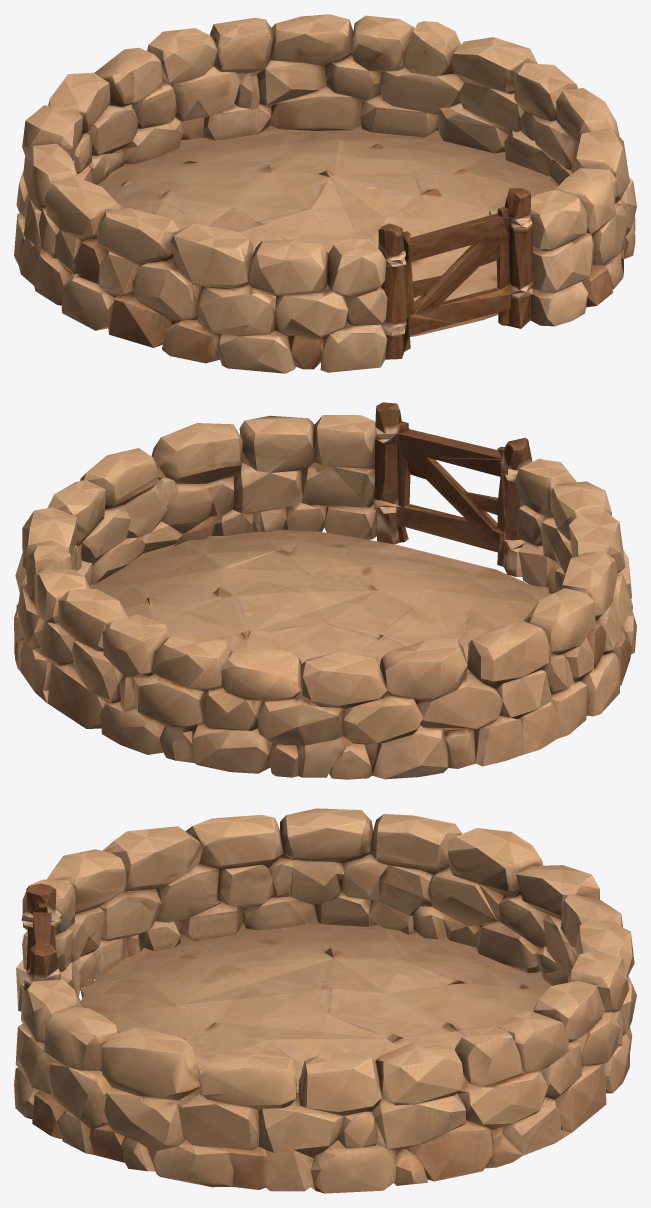
File: midian-sheepfold.glb
3 renders of one model, top to bottom at view 1: azimuth 30°, elevation 25°; view 2: azimuth 150°, elevation 25°; view 3: azimuth 270°, elevation 25°, orthographic. The views are drawn at different scales.
Size of the model in its own units: 1.9 by 0.4511 by 1.8.
Materials: 1 (1 with a texture image).
